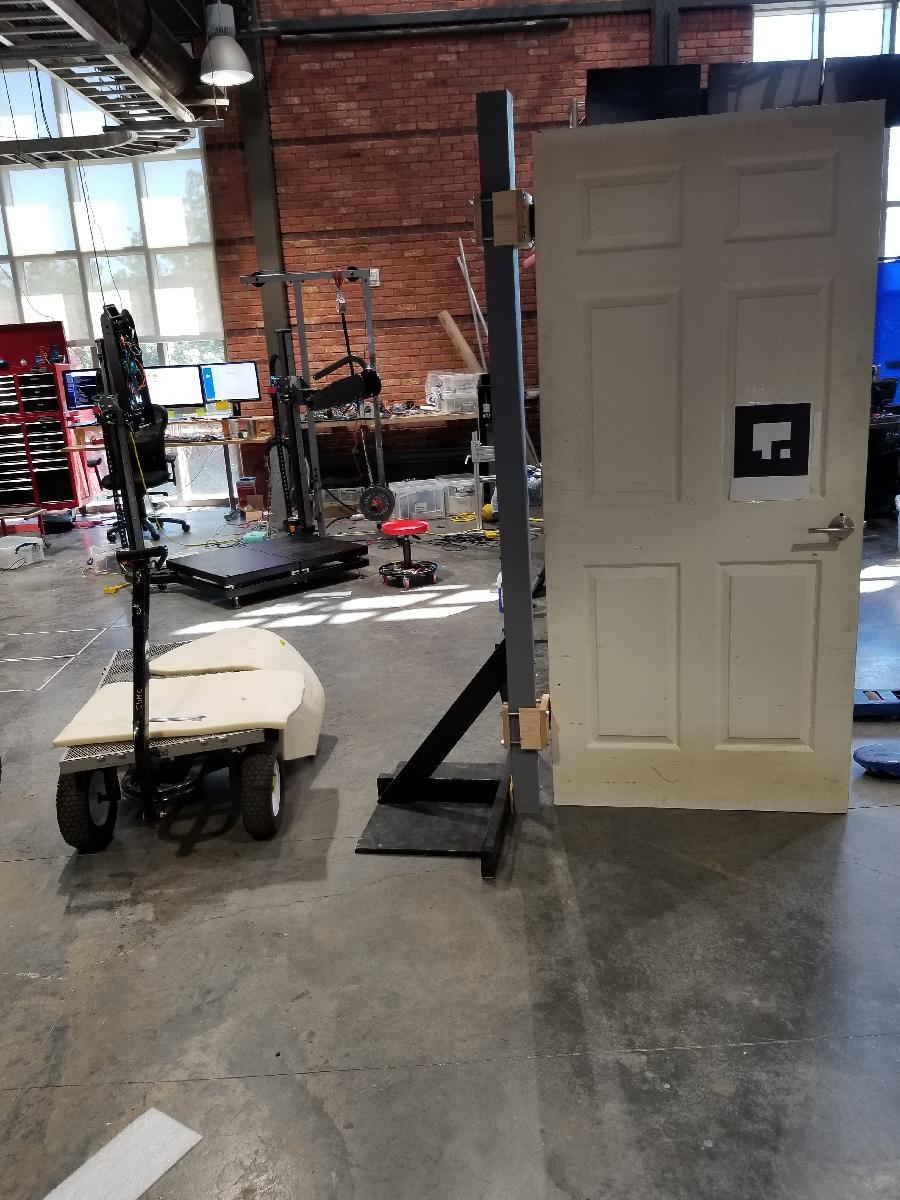door: (530, 96, 889, 818)
doorHandle: (804, 511, 860, 553)
